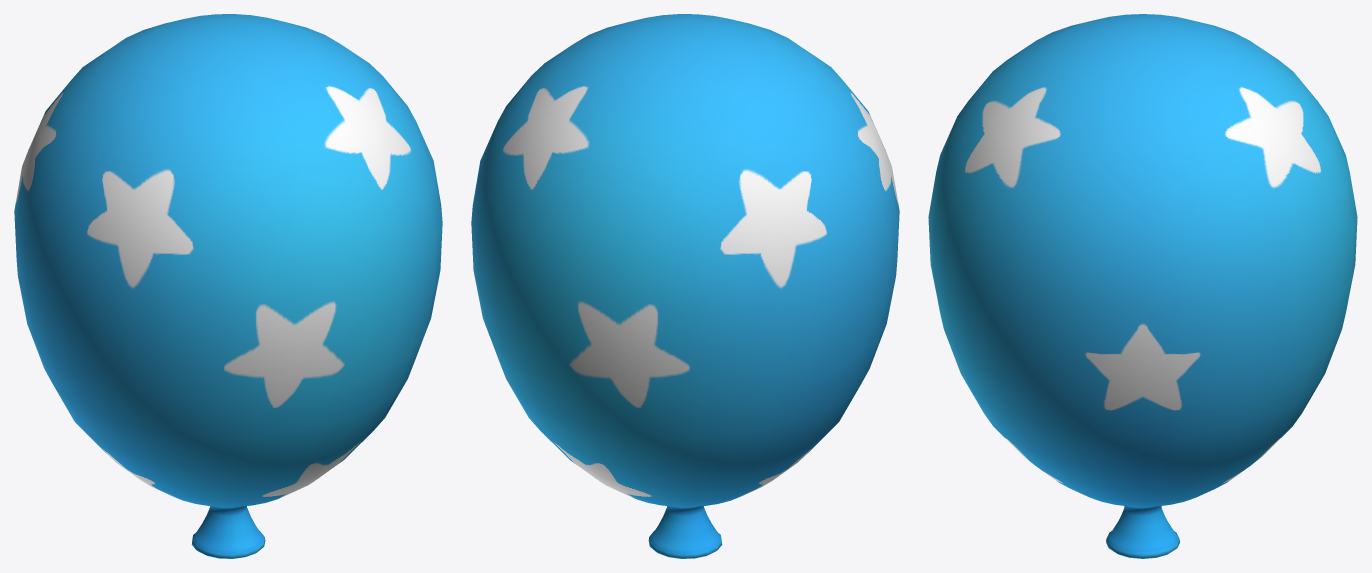
File: QiQiu3.FBX
3 renders of one model, left to right at view 1: azimuth 30°, elevation 25°; view 2: azimuth 150°, elevation 25°; view 3: azimuth 270°, elevation 25°, orthographic.
Visible parts, largest first — view 1: QiQiu; view 2: QiQiu; view 3: QiQiu.
Part boxes in pixels (bbox=[...]): QiQiu: bbox=[14, 14, 442, 558]; QiQiu: bbox=[471, 14, 899, 558]; QiQiu: bbox=[928, 14, 1357, 558].
Size of the model in its own units: 84.33 by 110 by 84.33.
